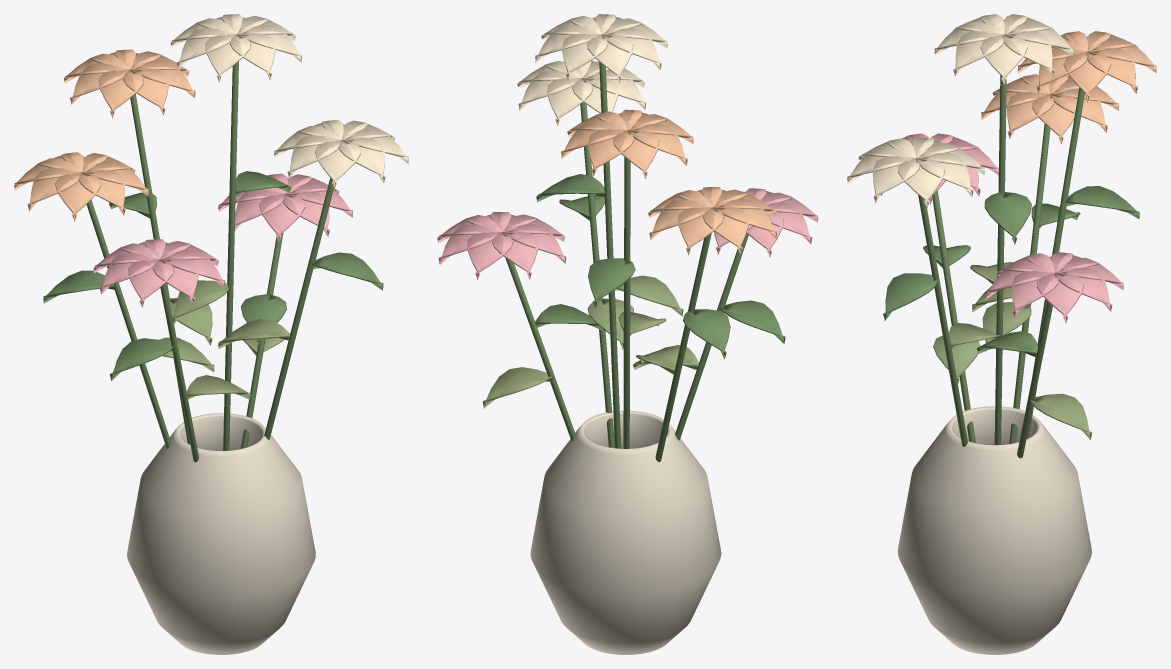
Rendered from hi3d-flower-vase_1.glb.
The picture shows the model from 3 angles, left to right: view 1: azimuth 30°, elevation 25°; view 2: azimuth 150°, elevation 25°; view 3: azimuth 270°, elevation 25°; orthographic projection. The views are drawn at different scales.
Parts seen in each view (by area): view 1: flower_vase_mesh; view 2: flower_vase_mesh; view 3: flower_vase_mesh.
Part boxes in pixels (x1,y1,x2,y2): flower_vase_mesh: (14, 14, 408, 654); flower_vase_mesh: (437, 14, 818, 654); flower_vase_mesh: (847, 14, 1156, 654).
Bounding box in the file's own units: 0.4141 × 0.7333 × 0.3346.
